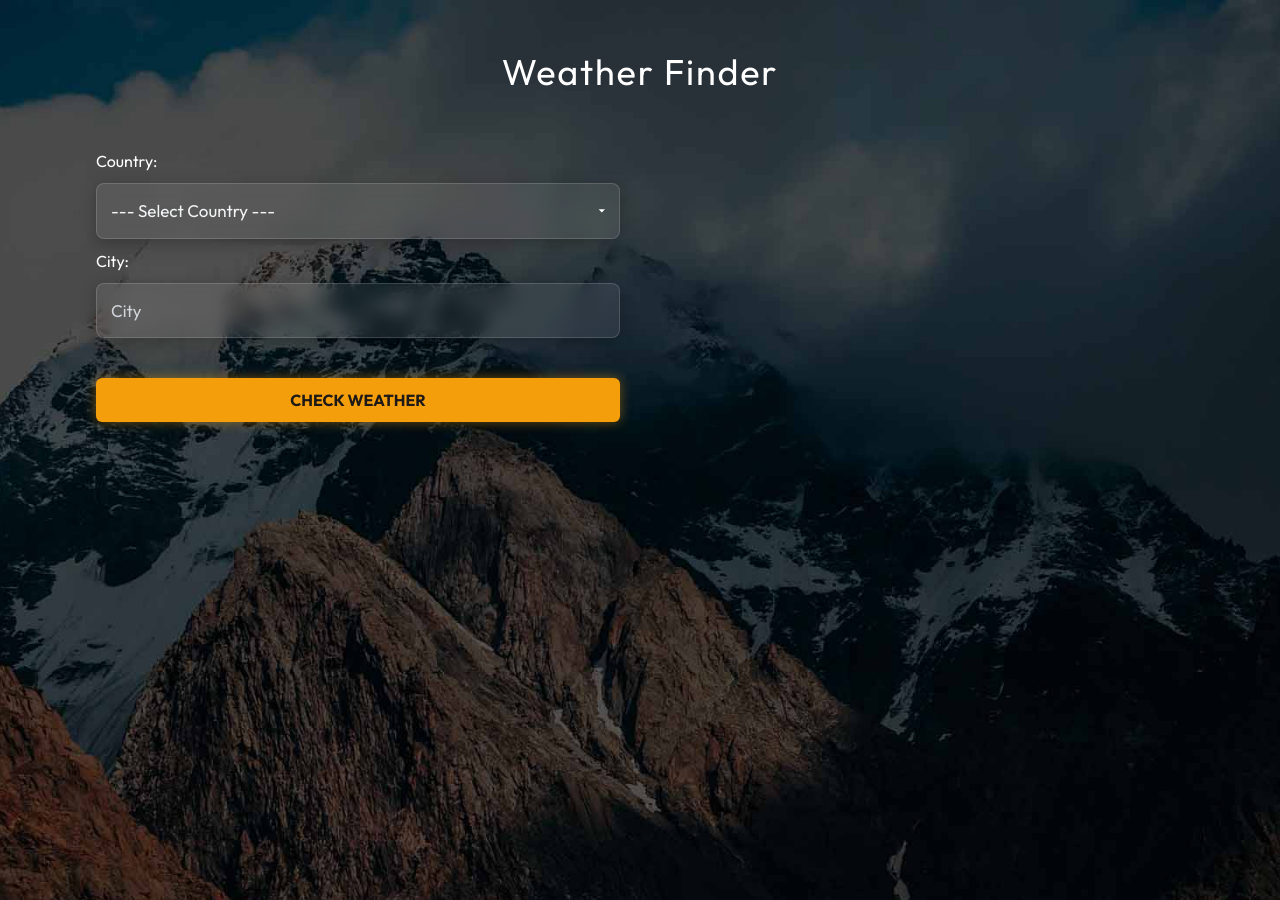
App › searches for a city and shows its weather card
Select "Colombia" in the dropdown labelled "Country:" at coordinates (358, 211), box [96,183,620,238]
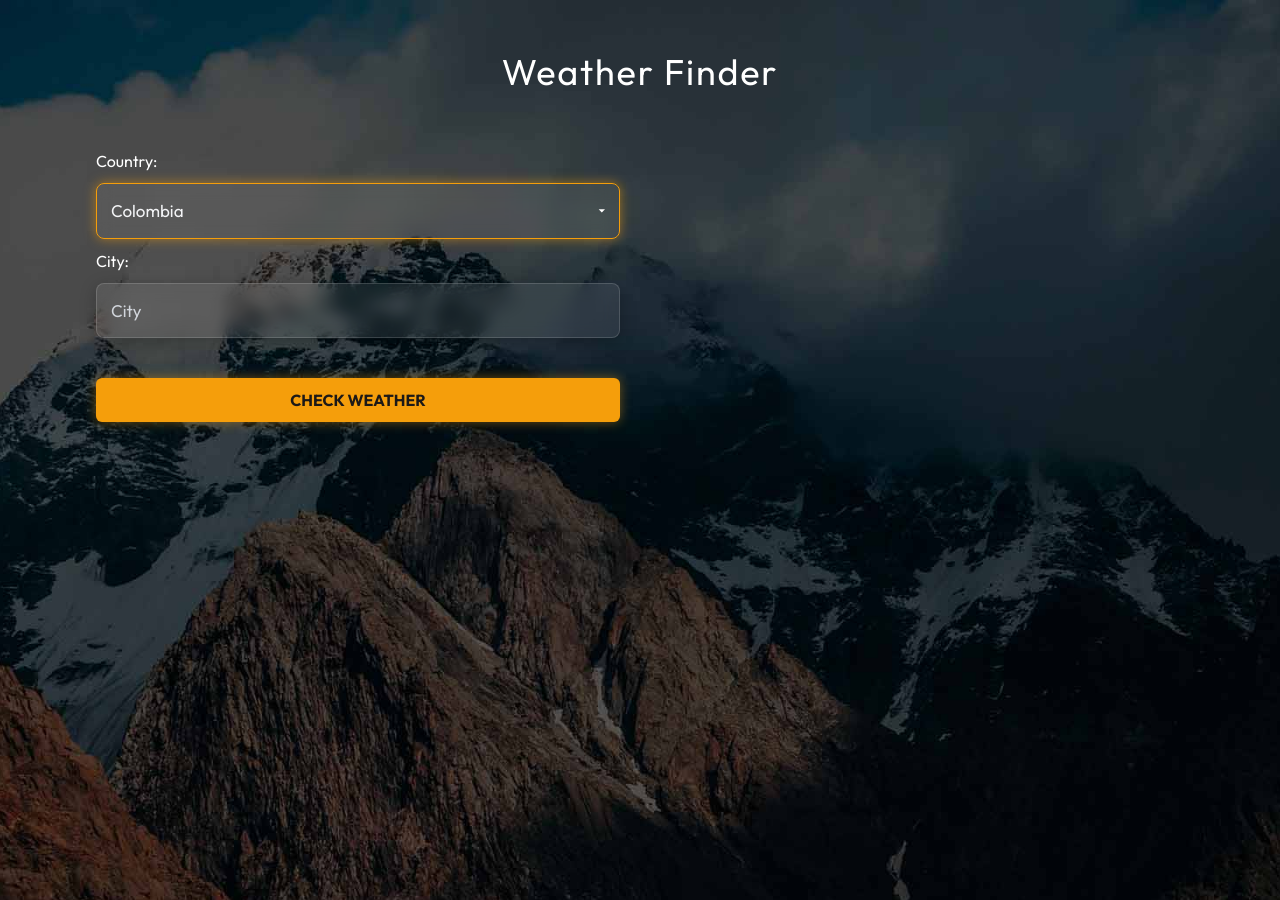
Type "Bogotá" into the field labelled "City:".
click(358, 310); type("Bogotá")  # box [96,282,620,338]
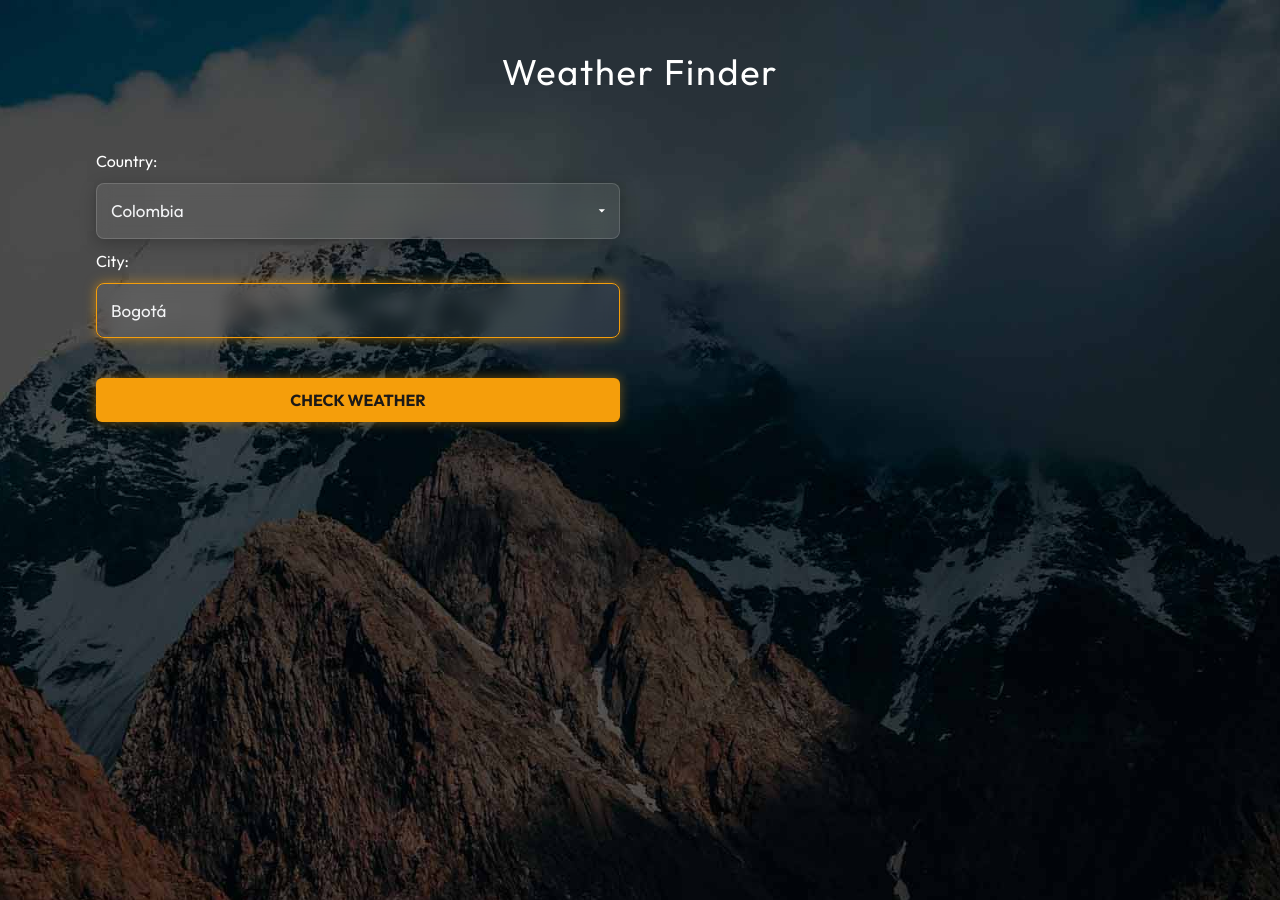
Click the button "Check weather".
click(358, 400)  # box [96,378,620,422]
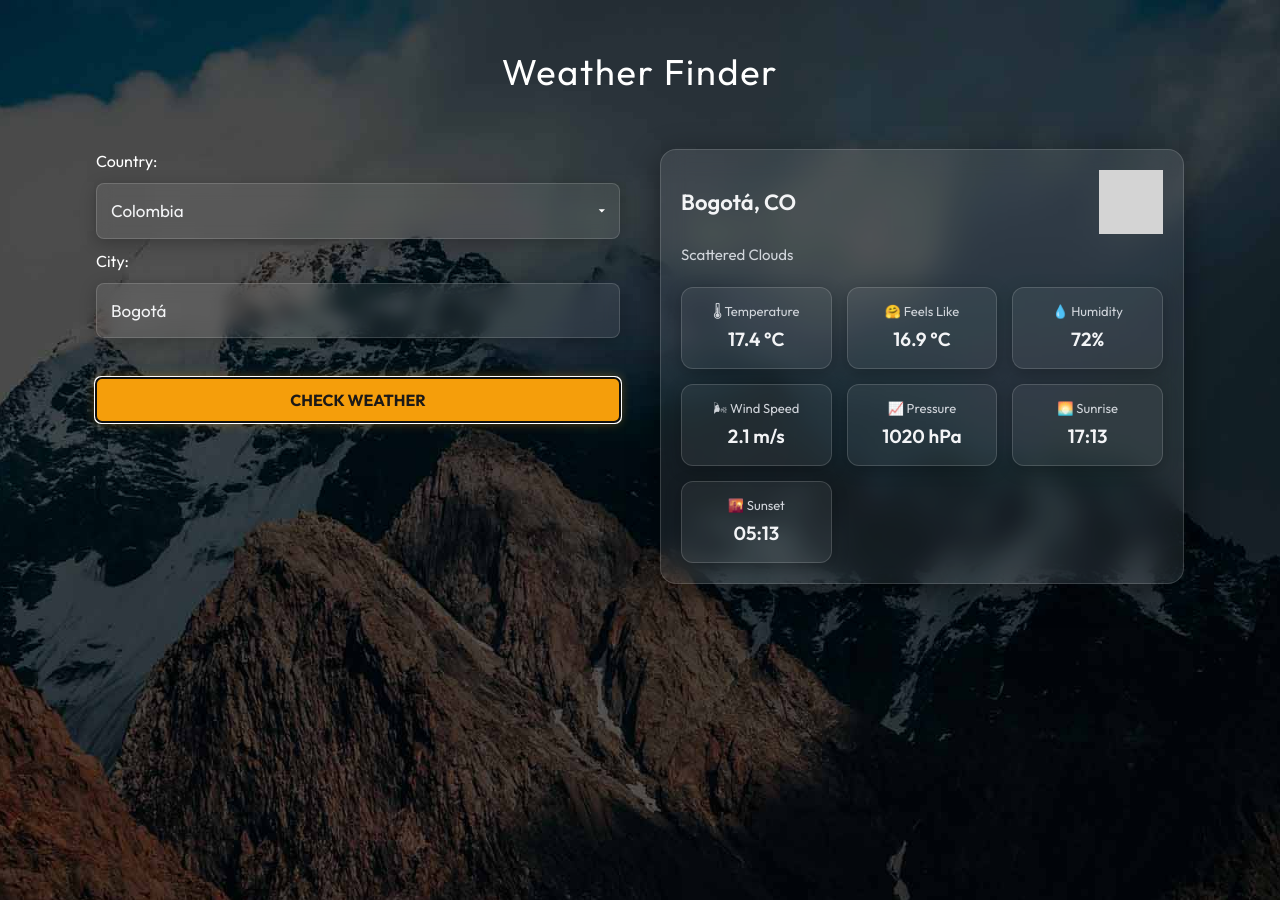
Check: the heading "Bogotá, CO" is shown, box [681,186,796,218]
